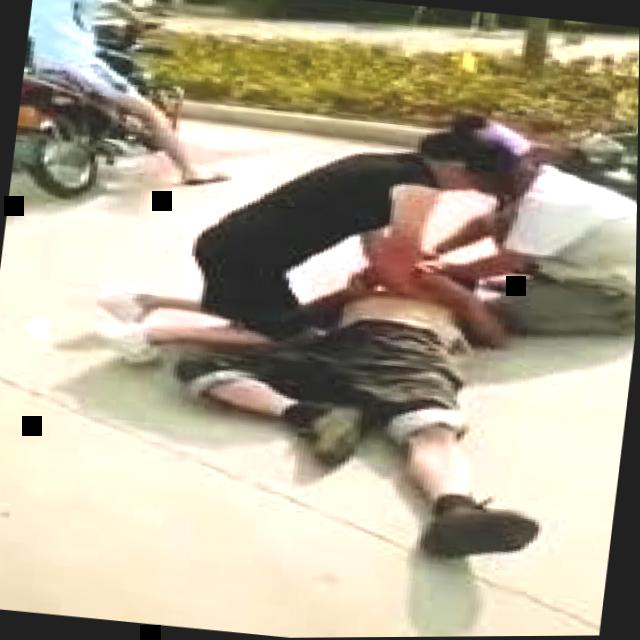Fall-Detected: (152, 197, 578, 568)
